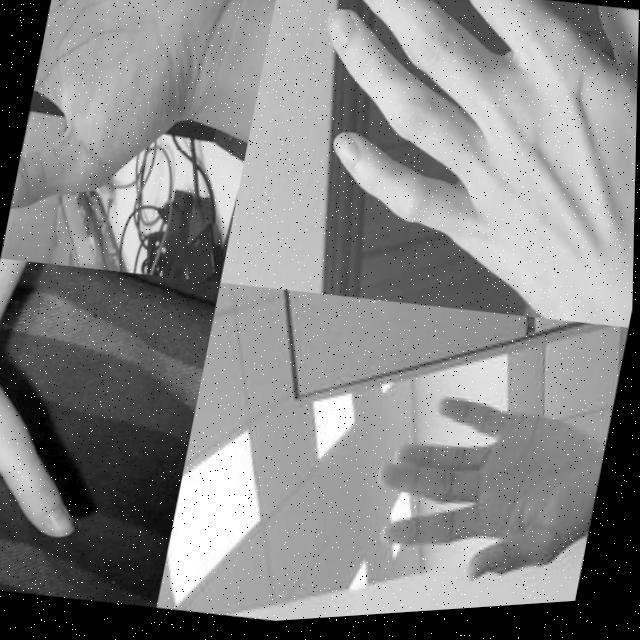hand: (265, 0, 640, 355), (360, 380, 614, 617), (6, 0, 239, 258), (0, 354, 134, 606)
